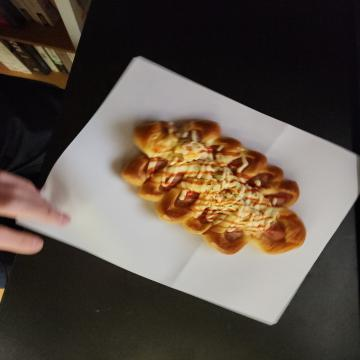pizza_bread: (120, 53, 256, 238)
